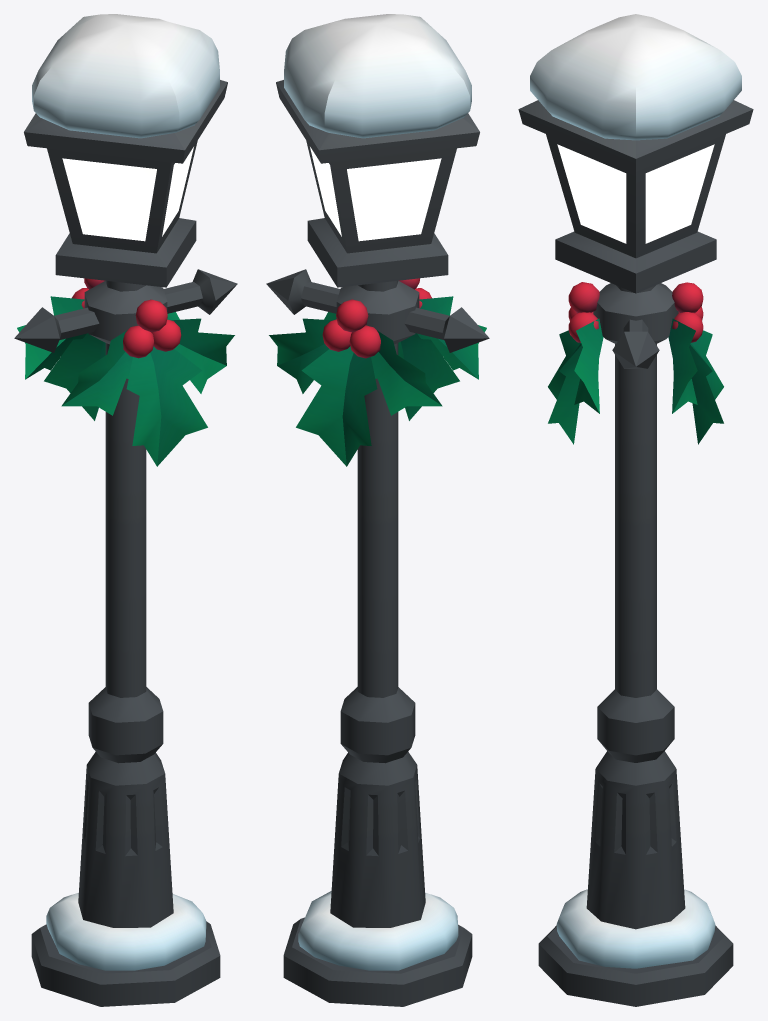
The model's file is lantern_decorated.gltf.
3 renders of one model, left to right at view 1: azimuth 30°, elevation 25°; view 2: azimuth 150°, elevation 25°; view 3: azimuth 270°, elevation 25°, orthographic.
Visible parts, largest first — view 1: lantern_decorated; view 2: lantern_decorated; view 3: lantern_decorated.
Part boxes in pixels (x1,y1,x2,y2): lantern_decorated: (14, 14, 237, 1006); lantern_decorated: (266, 14, 489, 1006); lantern_decorated: (518, 14, 753, 1006).
Size of the model in its own units: 0.9912 by 3.99 by 0.9051.
Materials: 2 (2 with a texture image).
